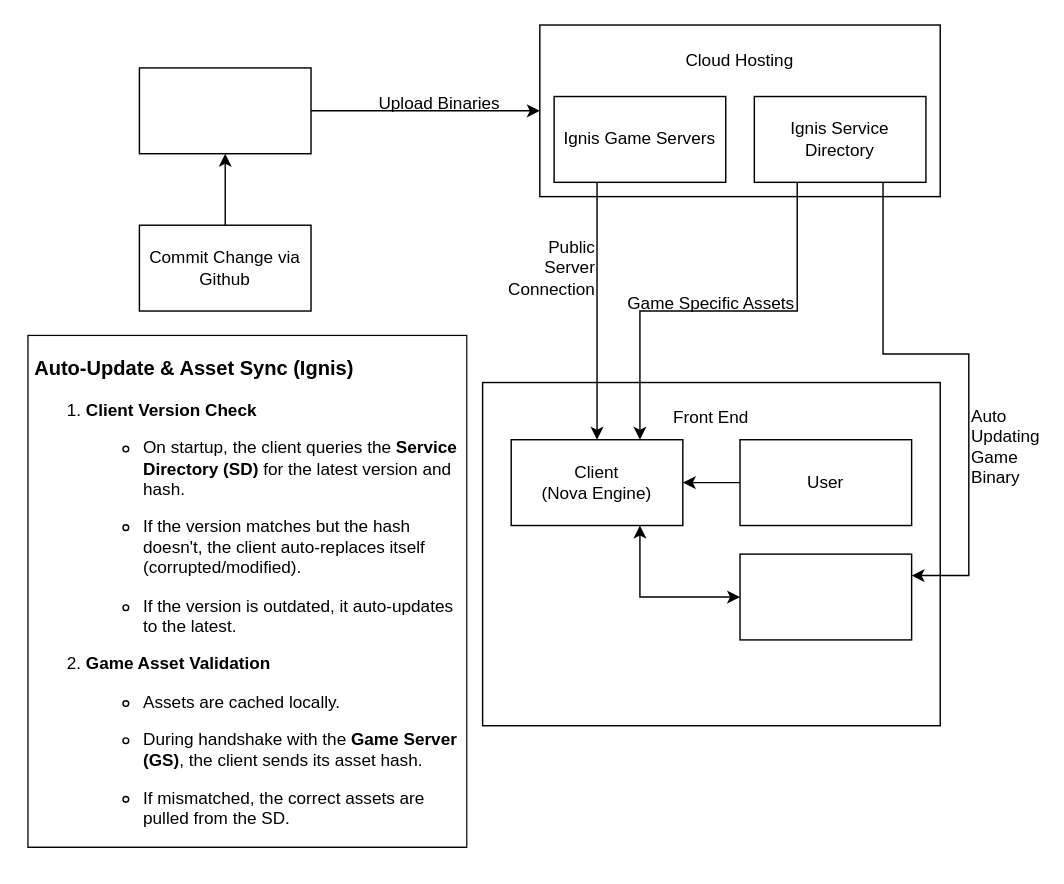
Some shapes in this 1064 by 884 pixel diagram are drawn without their labels. Here are the shapes that lost their labels. From the top down, the box of each, then its label:
(138, 66, 311, 154): Github Automations Builds Binaries
(739, 553, 912, 640): Computer
